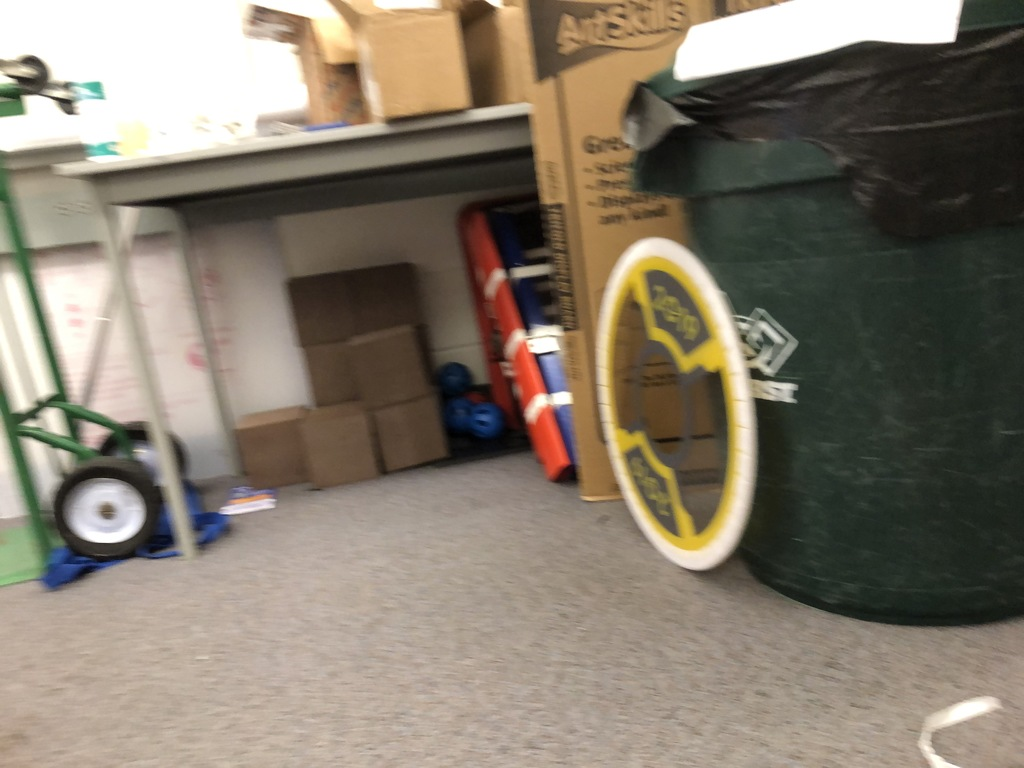hatch_panel: (587, 217, 771, 589)
